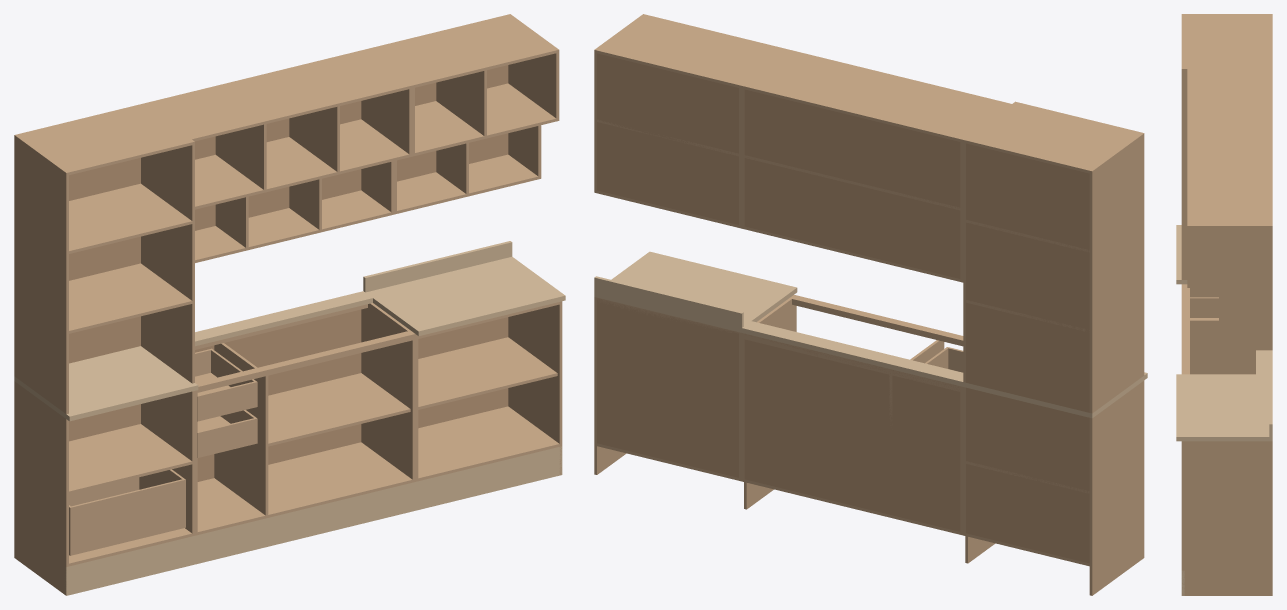
The model's file is cozinha_sem_portas.glb.
The picture shows the model from 3 angles, left to right: view 1: azimuth 30°, elevation 25°; view 2: azimuth 150°, elevation 25°; view 3: azimuth 270°, elevation 25°; orthographic projection. The views are drawn at different scales.
Parts seen in each view (by area): view 1: Cozinha 270 x 220 cm; view 2: Cozinha 270 x 220 cm; view 3: Cozinha 270 x 220 cm.
Boxes of the visible parts, x1,y1,x2,y2 form: Cozinha 270 x 220 cm: (14,14,565,595); Cozinha 270 x 220 cm: (594,14,1147,595); Cozinha 270 x 220 cm: (1176,14,1272,595).
Size of the model in its own units: 2.7 by 2.2 by 0.52.
